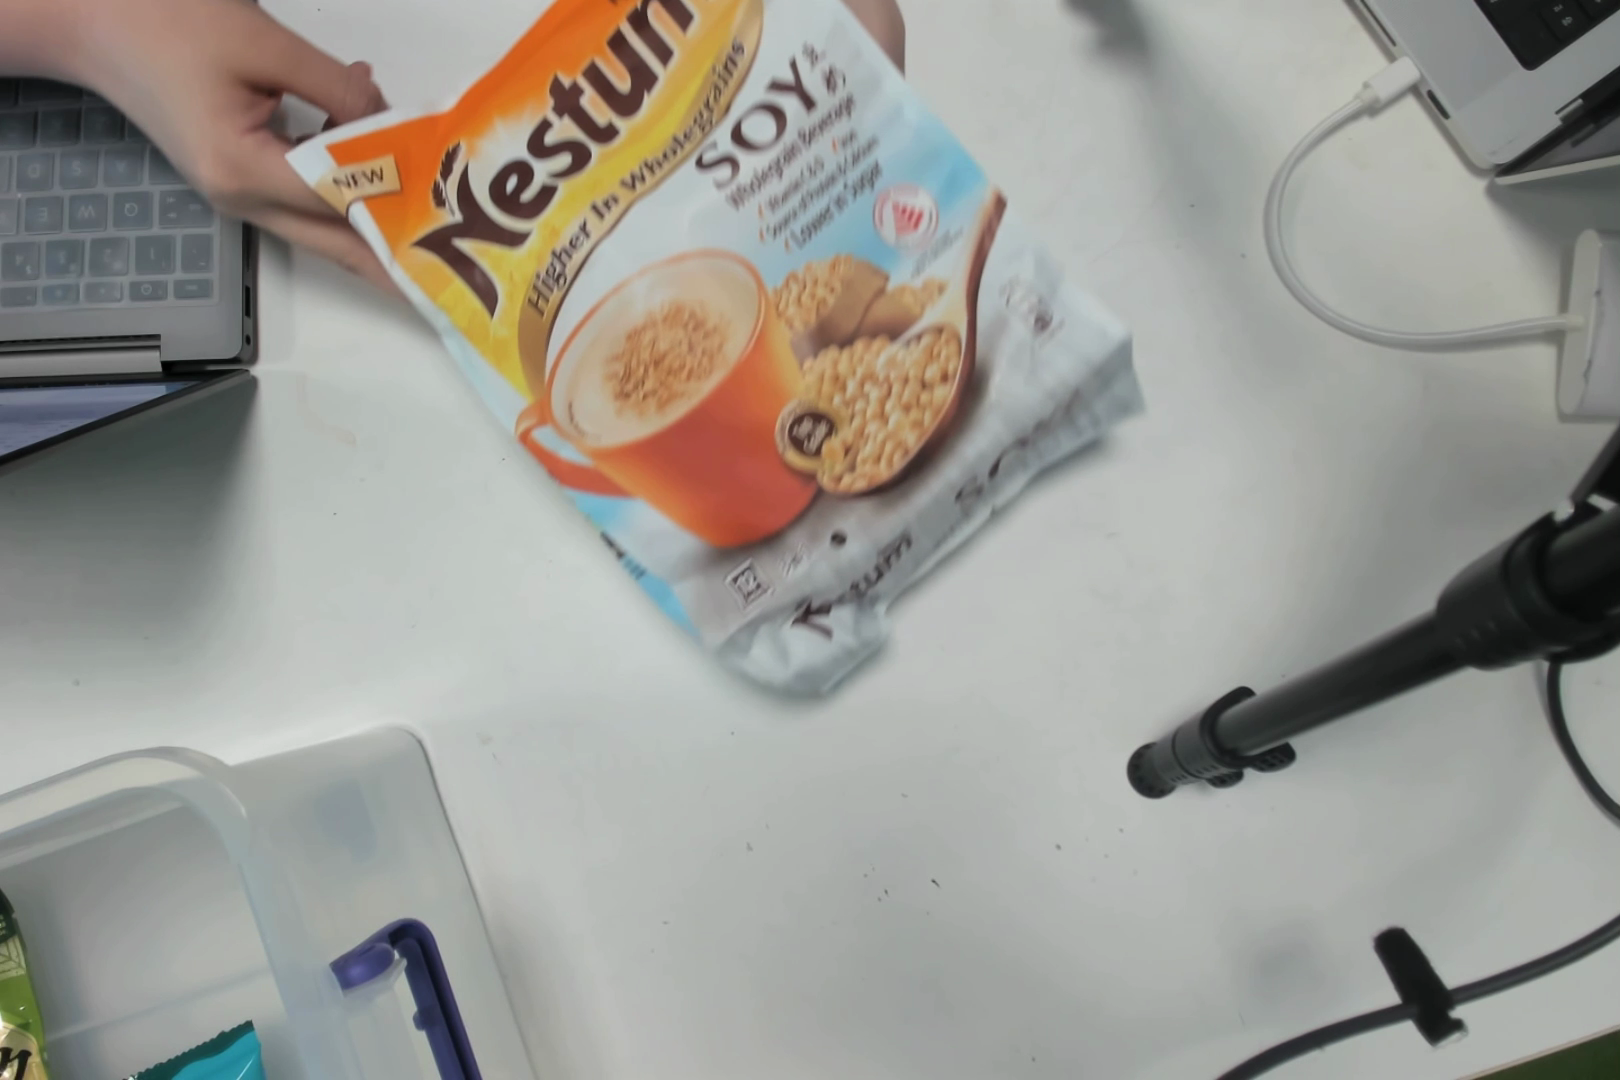e: (376, 4, 1045, 639)
